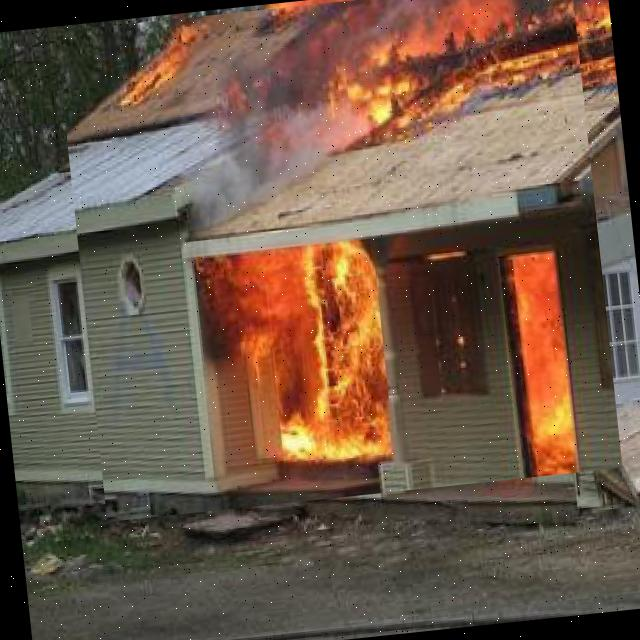fire: (55, 0, 622, 521)
